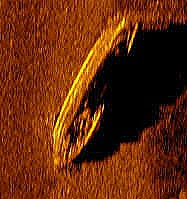ship: (49, 16, 139, 171)
